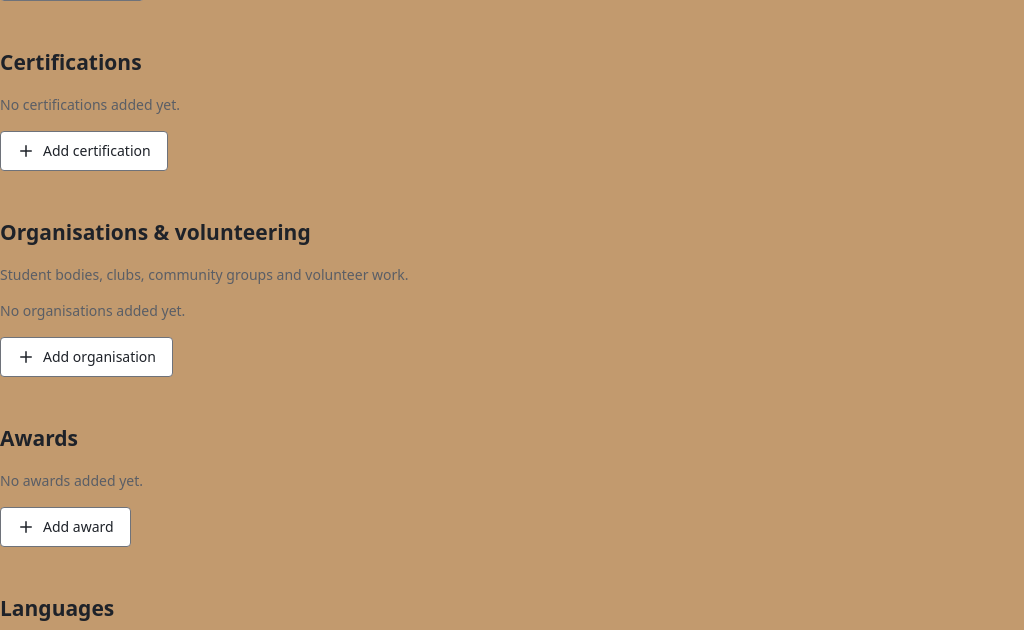
Test: new section editors › edits organizations, including the still-active toggle and date checks
The image size is (1024, 630).
(page scrolled)
Step 1. Click the button "Add organisation" → (86, 357), box left=0, top=337, right=173, bottom=377
(page scrolled)
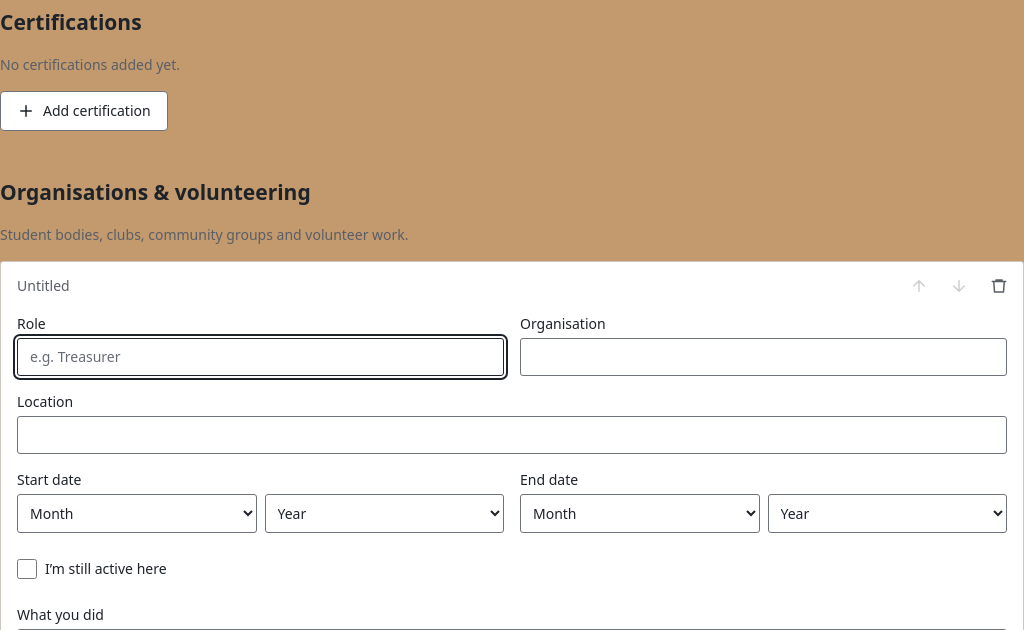
Step 2. Type "Treasurer" into the field labelled "Role" → (260, 357), box left=17, top=338, right=504, bottom=376
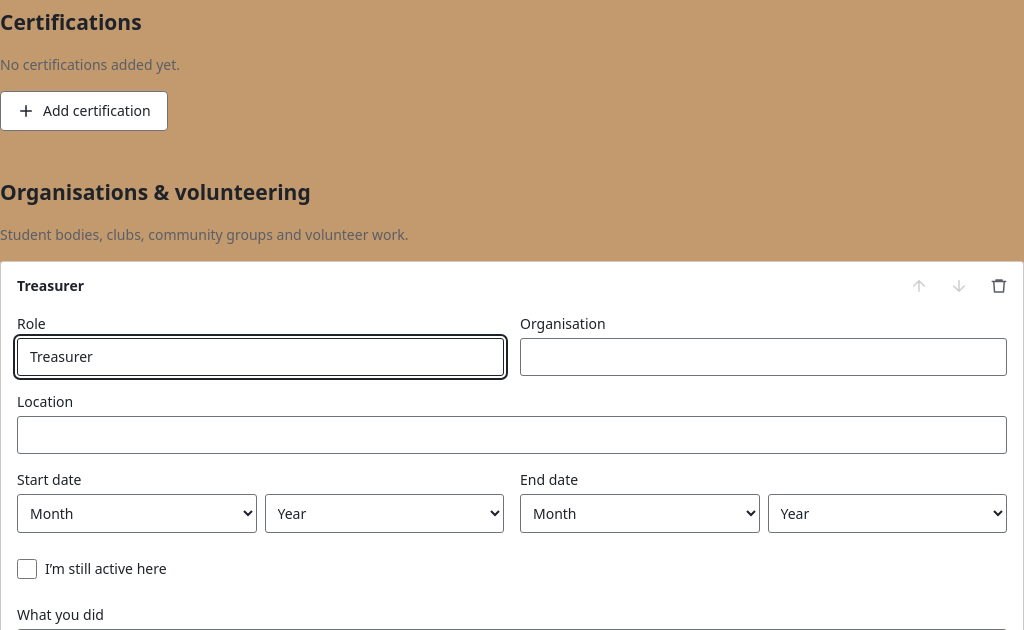
Step 3. Type "Student Union" into the field labelled "Organisation" → (764, 357), box left=520, top=338, right=1007, bottom=376
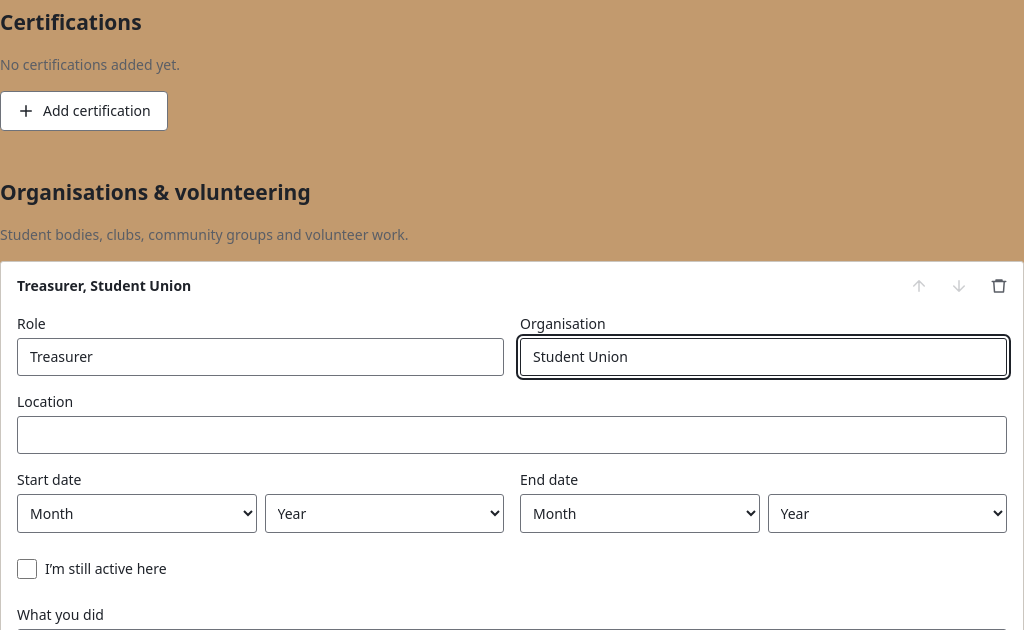
Now the heading "Treasurer, Student Union" is shown, box left=17, top=276, right=191, bottom=296
Step 4. Select "2022" in the dropdown named "Start date: Year" → (384, 514), box left=264, top=494, right=504, bottom=533
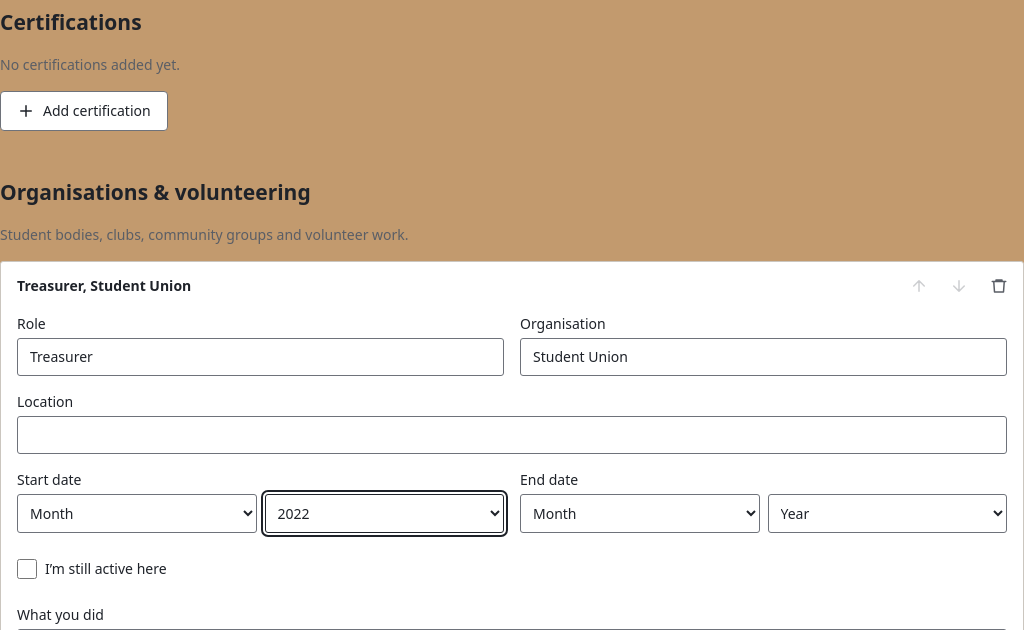
Step 5. Select "2020" in the dropdown named "End date: Year" → (887, 514), box left=768, top=494, right=1007, bottom=533
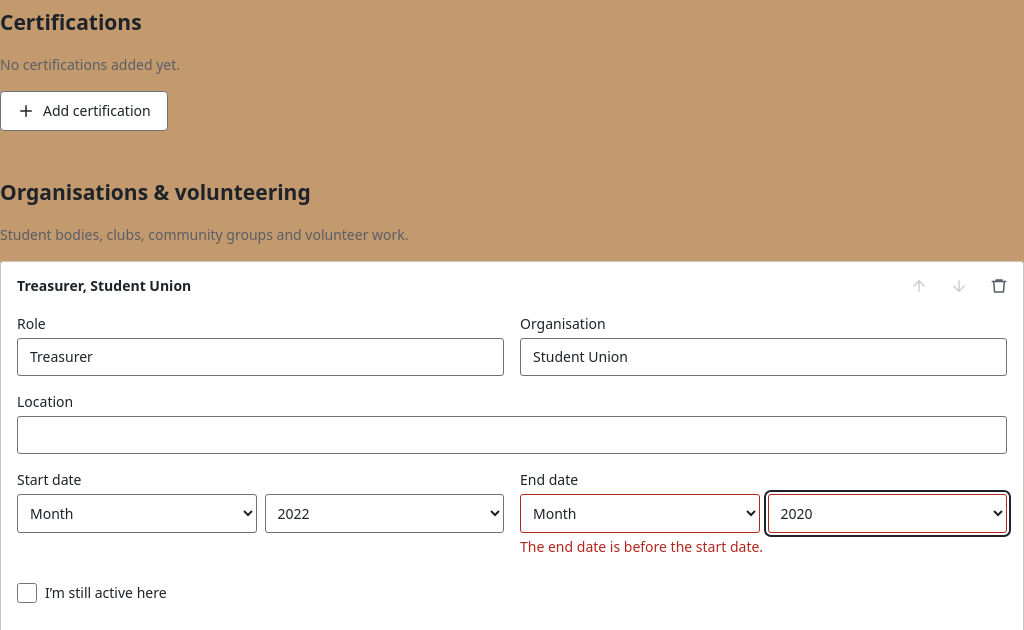
Now the message reads "The end date is before the start date.", box left=520, top=537, right=763, bottom=556
Step 6. Click the checkbox labelled "I’m still active here" → (27, 593), box left=17, top=583, right=37, bottom=603
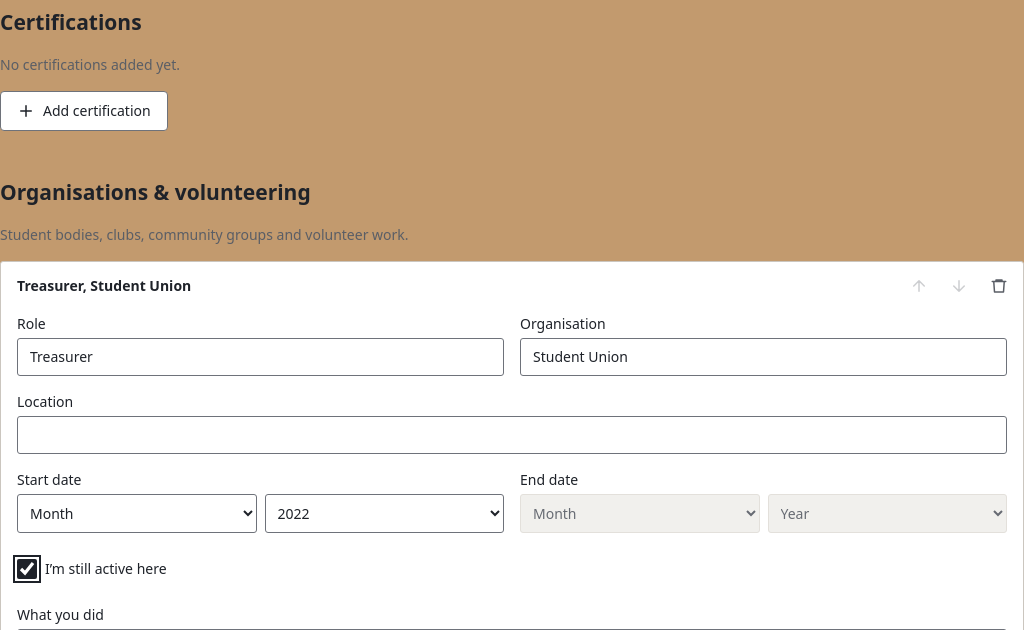
Now the dropdown named "End date: Year" is disabled, box left=768, top=494, right=1007, bottom=533
Now the message "The end date is before the start date." is gone
